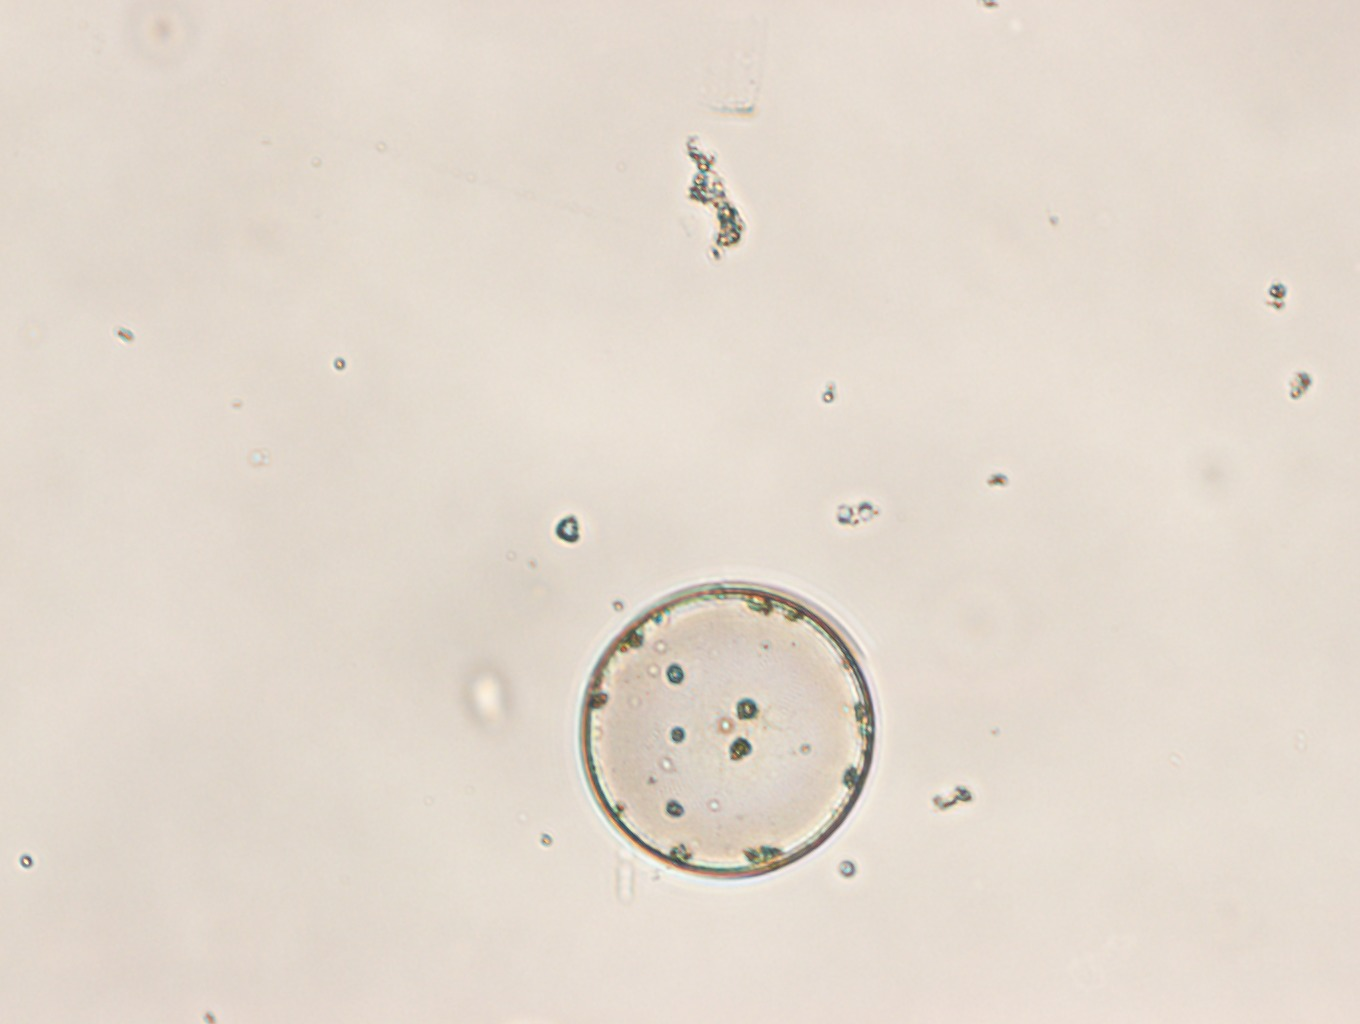coscinodiscus: (577, 580, 874, 877)
